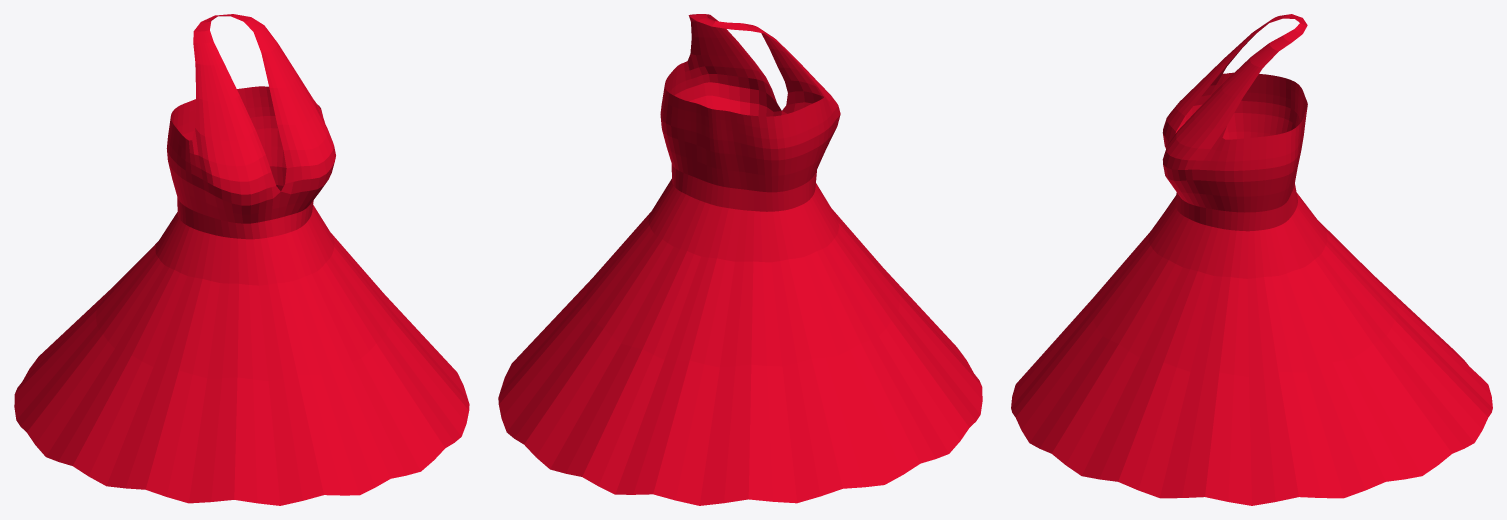
Rendered from obojena haljina.fbx.
The picture shows the model from 3 angles, left to right: view 1: azimuth 30°, elevation 25°; view 2: azimuth 150°, elevation 25°; view 3: azimuth 270°, elevation 25°; orthographic projection. The views are drawn at different scales.
Parts seen in each view (by area): view 1: Cylinder; view 2: Cylinder; view 3: Cylinder.
Boxes of the visible parts, x1,y1,x2,y2 form: Cylinder: (14, 14, 469, 505); Cylinder: (498, 14, 982, 505); Cylinder: (1011, 14, 1492, 505).
Bounding box in the file's own units: 154 × 141 × 160.
